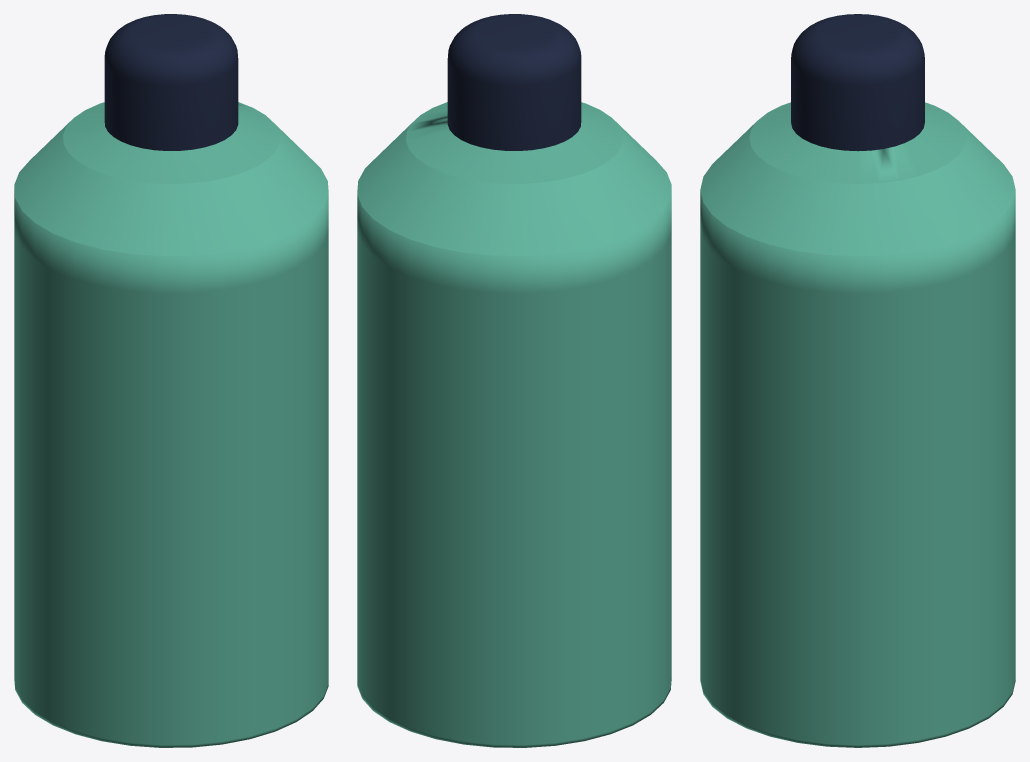
Rendered from Bottle.glb.
3 views of the same model, side by side, from view 1: azimuth 30°, elevation 25°; view 2: azimuth 150°, elevation 25°; view 3: azimuth 270°, elevation 25° (orthographic).
Visible parts, largest first — view 1: Circle, Circle.001; view 2: Circle, Circle.001; view 3: Circle, Circle.001.
Boxes of the visible parts, <box> form: Circle: <box>14,102,328,747</box>; Circle.001: <box>104,14,238,150</box>; Circle: <box>357,102,671,747</box>; Circle.001: <box>447,14,581,150</box>; Circle: <box>700,102,1015,747</box>; Circle.001: <box>791,14,924,151</box>.
Bounding box in the file's own units: 1.46 × 3.31 × 1.46.
